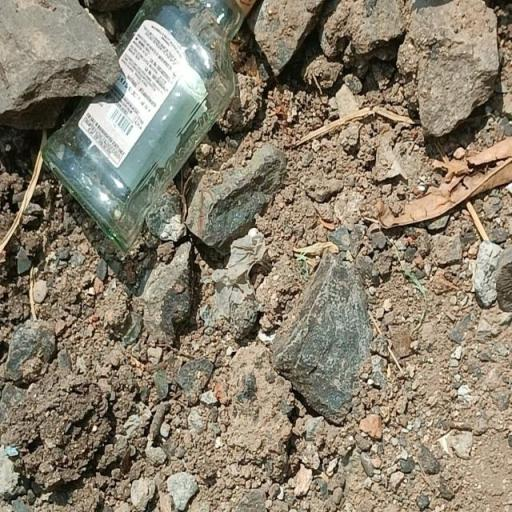glass: (35, 0, 260, 265)
